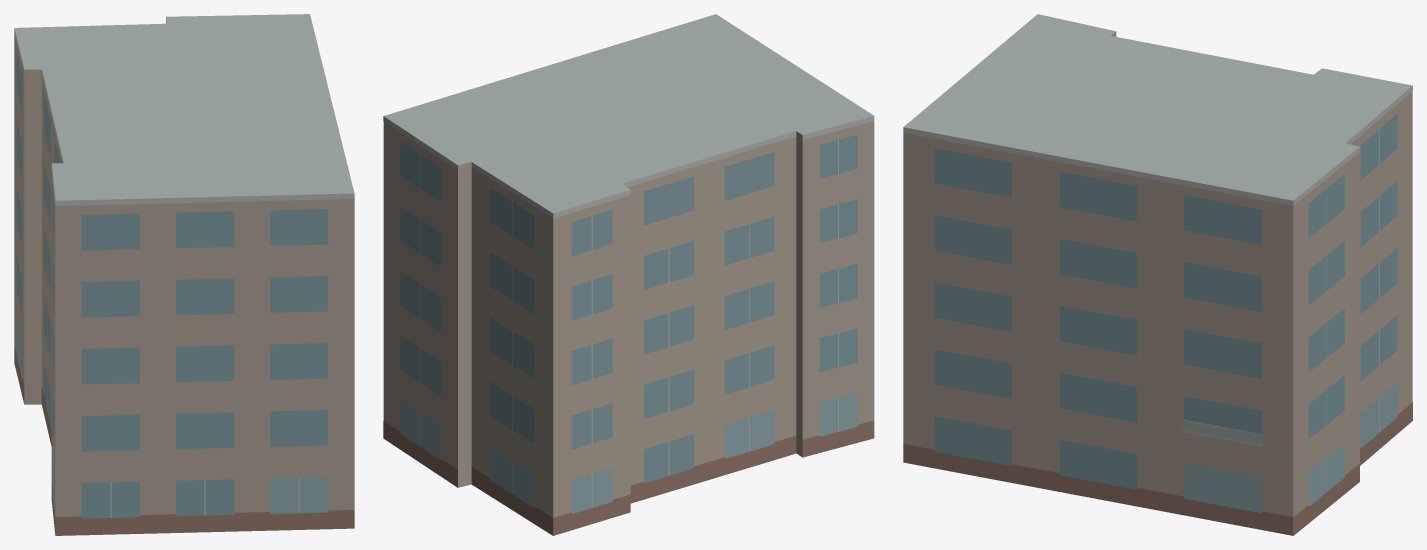
Rendered from survey-upis-32478241.glb.
3 views of the same model, side by side, from view 1: azimuth 30°, elevation 25°; view 2: azimuth 150°, elevation 25°; view 3: azimuth 270°, elevation 25° (orthographic). The views are drawn at different scales.
Visible parts, largest first — view 1: survey-upis-32478241.tmp; view 2: survey-upis-32478241.tmp; view 3: survey-upis-32478241.tmp.
Boxes of the visible parts, <box> form: survey-upis-32478241.tmp: <box>14,14,354,535</box>; survey-upis-32478241.tmp: <box>383,14,874,535</box>; survey-upis-32478241.tmp: <box>903,14,1412,535</box>.
Size of the model in its own units: 18.28 by 15.3 by 21.09.
